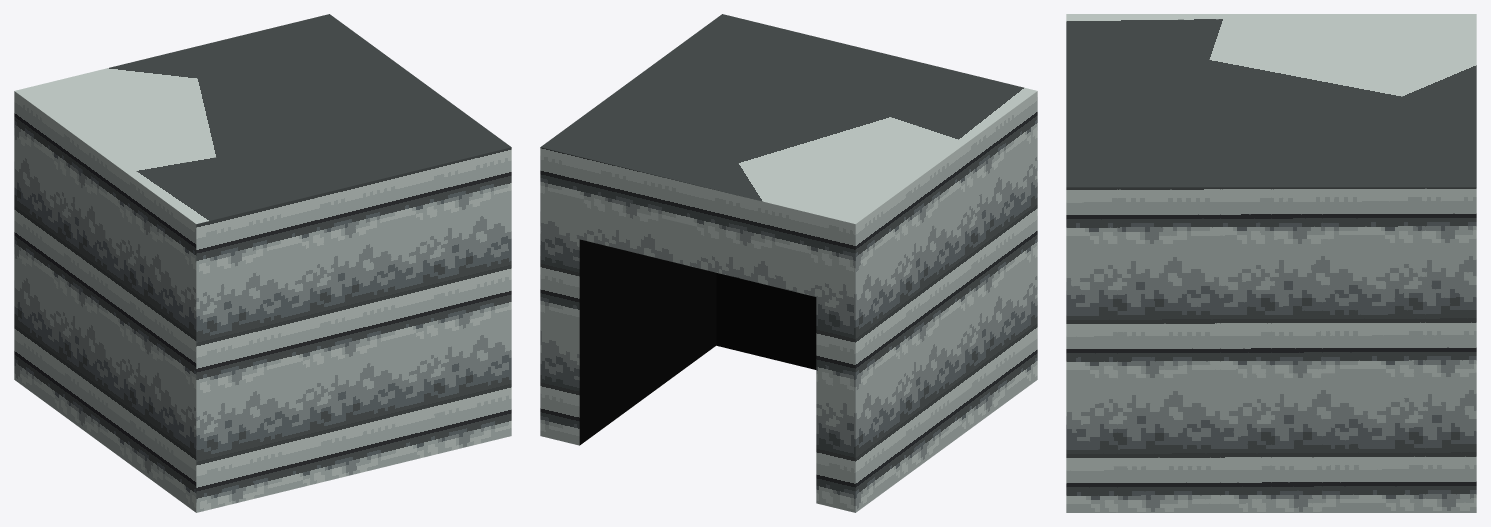
File: gate.glb
3 renders of one model, left to right at view 1: azimuth 30°, elevation 25°; view 2: azimuth 150°, elevation 25°; view 3: azimuth 270°, elevation 25°, orthographic. The views are drawn at different scales.
Visible parts, largest first — view 1: Cube; view 2: Cube; view 3: Cube.
Boxes of the visible parts, box(x1,y1,x2,y2) form: Cube: box(14, 14, 511, 512); Cube: box(540, 14, 1037, 512); Cube: box(1066, 14, 1476, 512).
Bounding box in the file's own units: 4 × 3.5 × 4.
2 materials, 2 textured.
